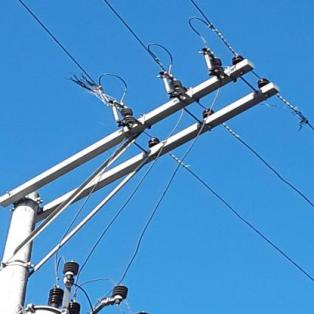Poste: (0, 182, 55, 314)
